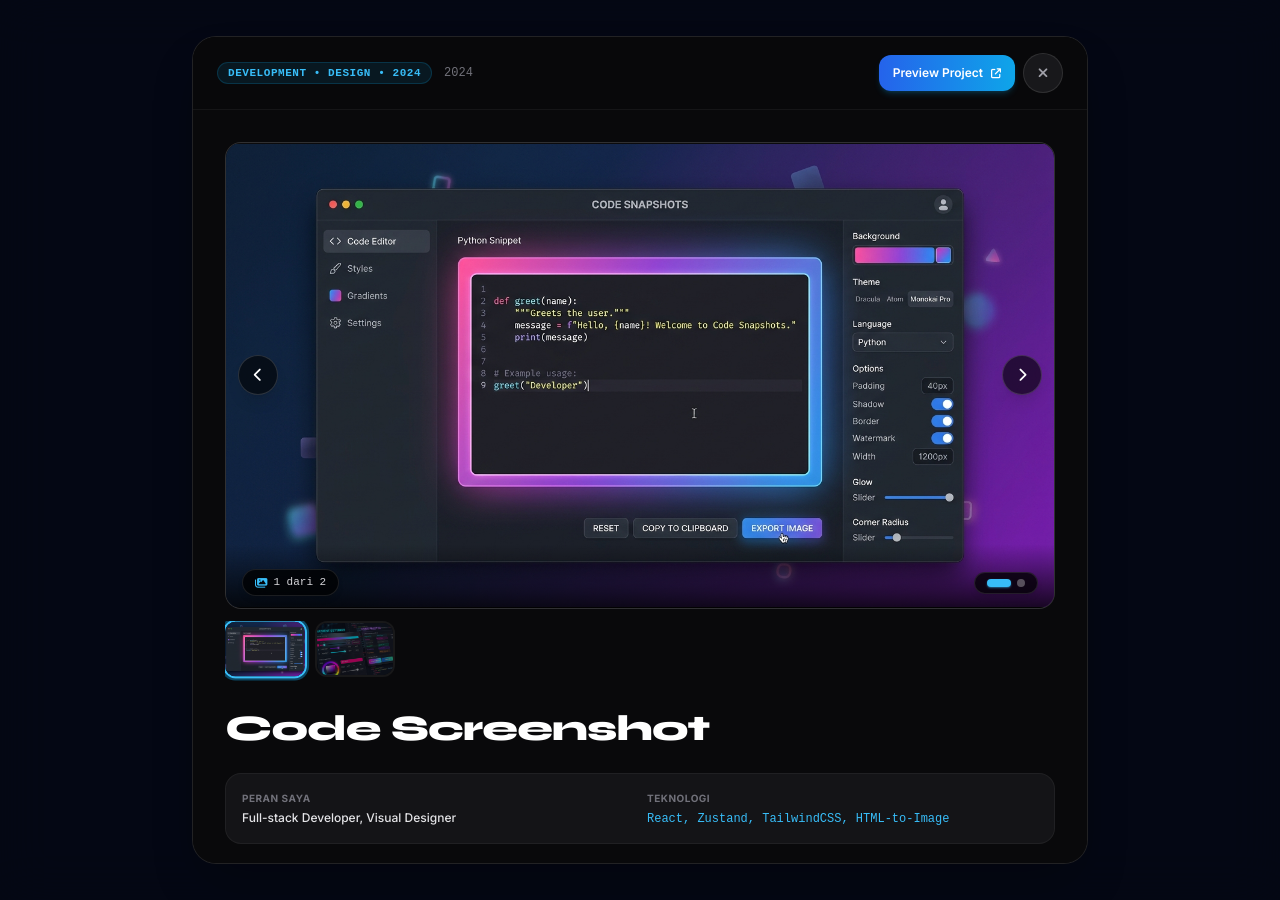
Test: ProjectModal Feature Buttons (Preview, Close, Carousel, Link) › carousel next and prev navigation buttons change current slide
The width and height of the screenshot is (1280, 900).
Expected: the button named "previous slide" is shown, [238, 355, 278, 395]
Expected: the text "1 dari 2" is shown, [273, 574, 326, 591]
Note: Click next
Step 1. Click the button named "next slide" → click(1022, 375), box [1002, 355, 1042, 395]
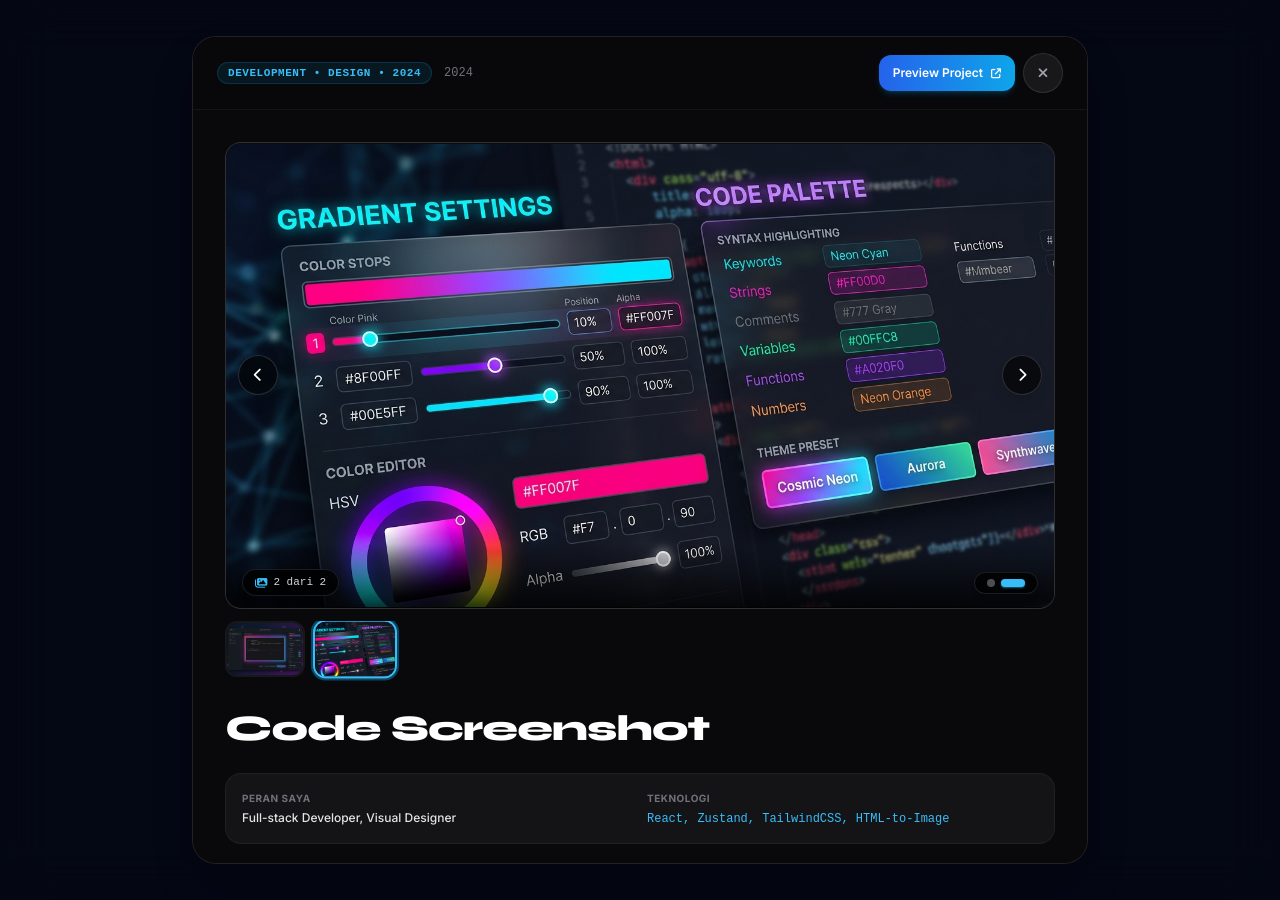
Expected: the text "2 dari 2" is shown, [273, 574, 326, 591]
Note: Click prev
Step 2. Click the button named "previous slide" → click(258, 375), box [238, 355, 278, 395]
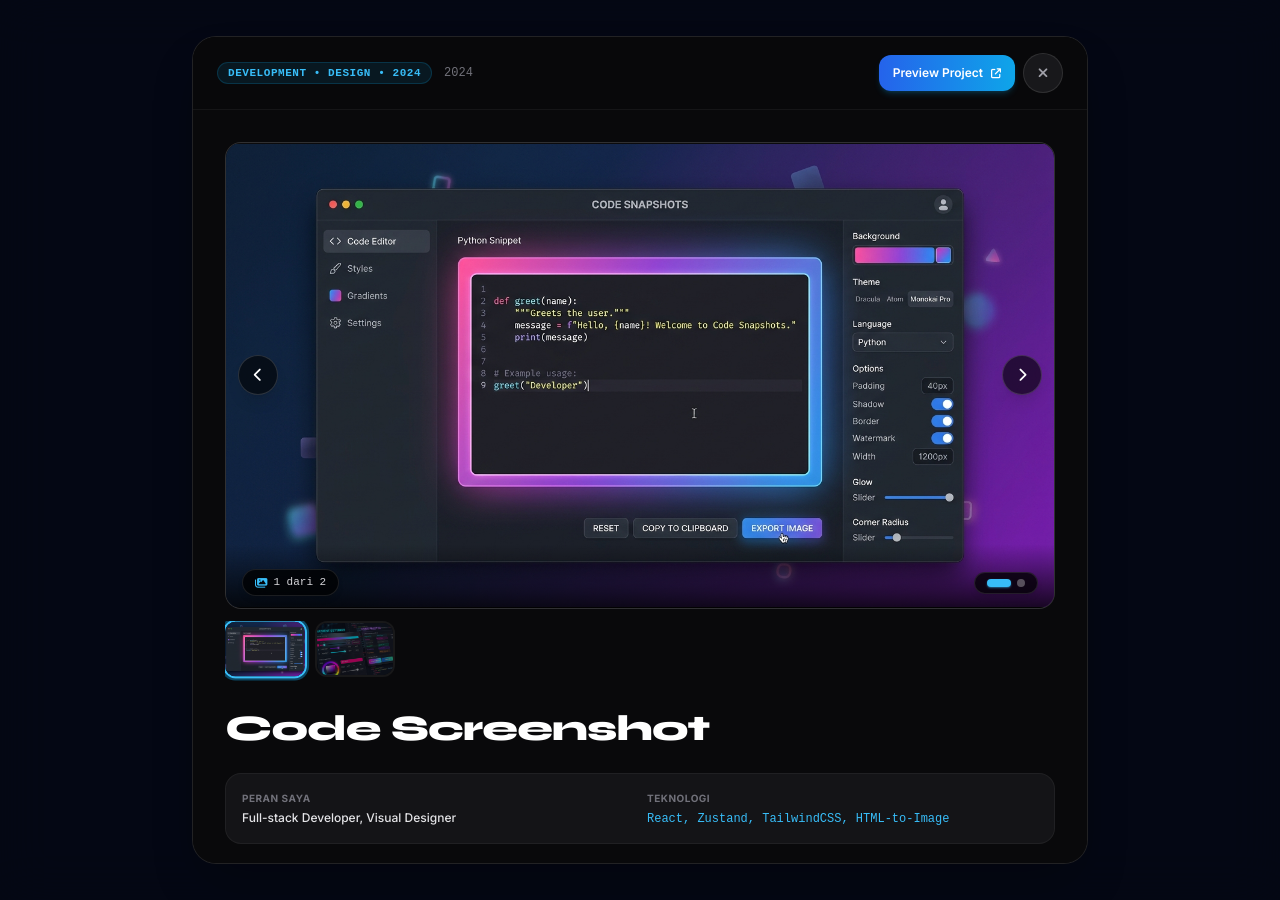
Expected: the text "1 dari 2" is shown, [273, 574, 326, 591]
